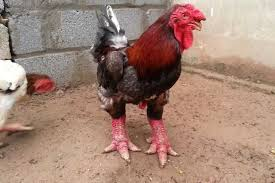Gà/Chicken: (87, 1, 218, 173)
